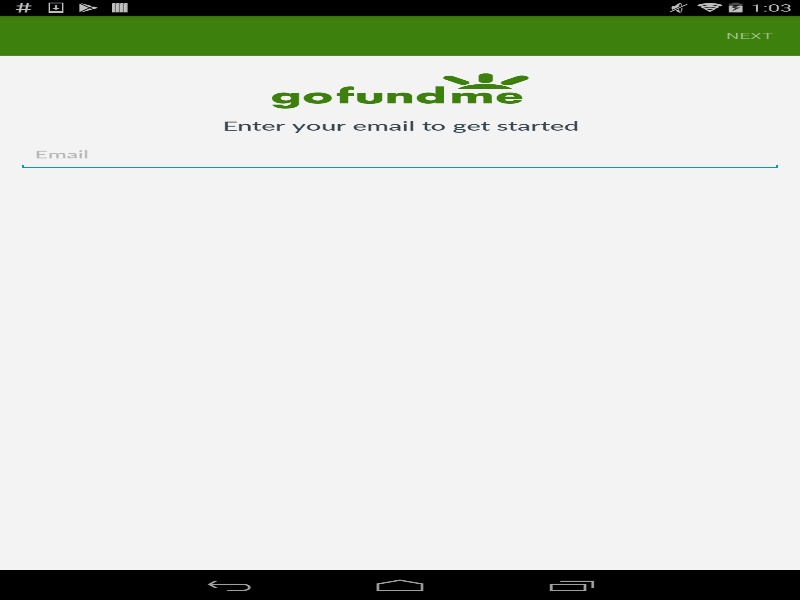Input: (17, 139, 782, 170)
